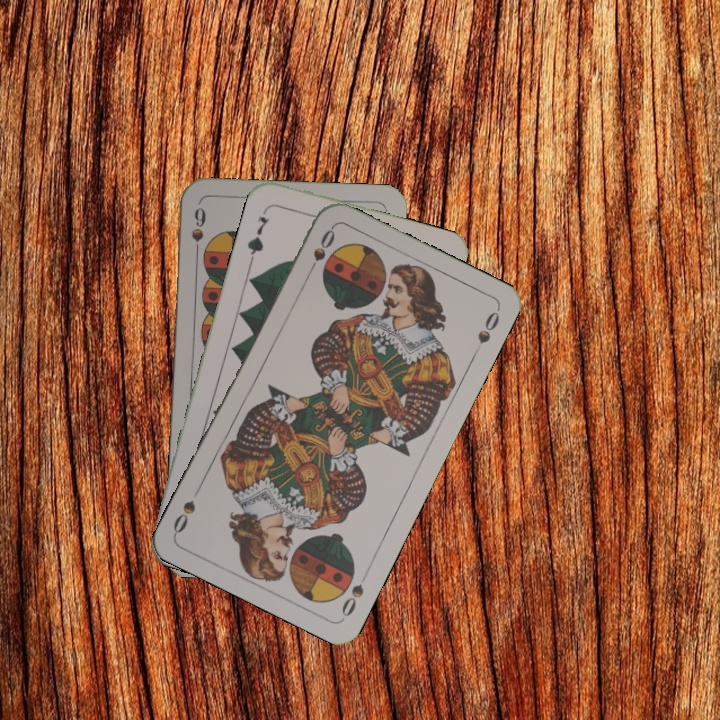G7: (243, 212, 272, 262)
S9: (187, 203, 208, 261)
SO: (303, 224, 338, 279), (337, 566, 371, 620)
